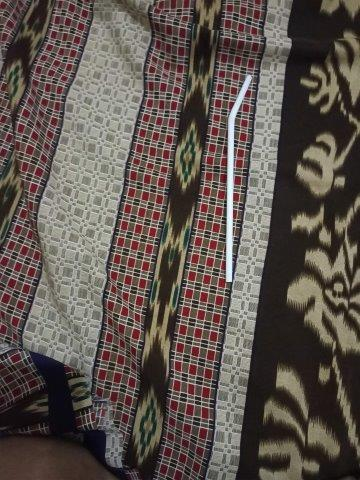sedotan: (225, 75, 253, 282)
